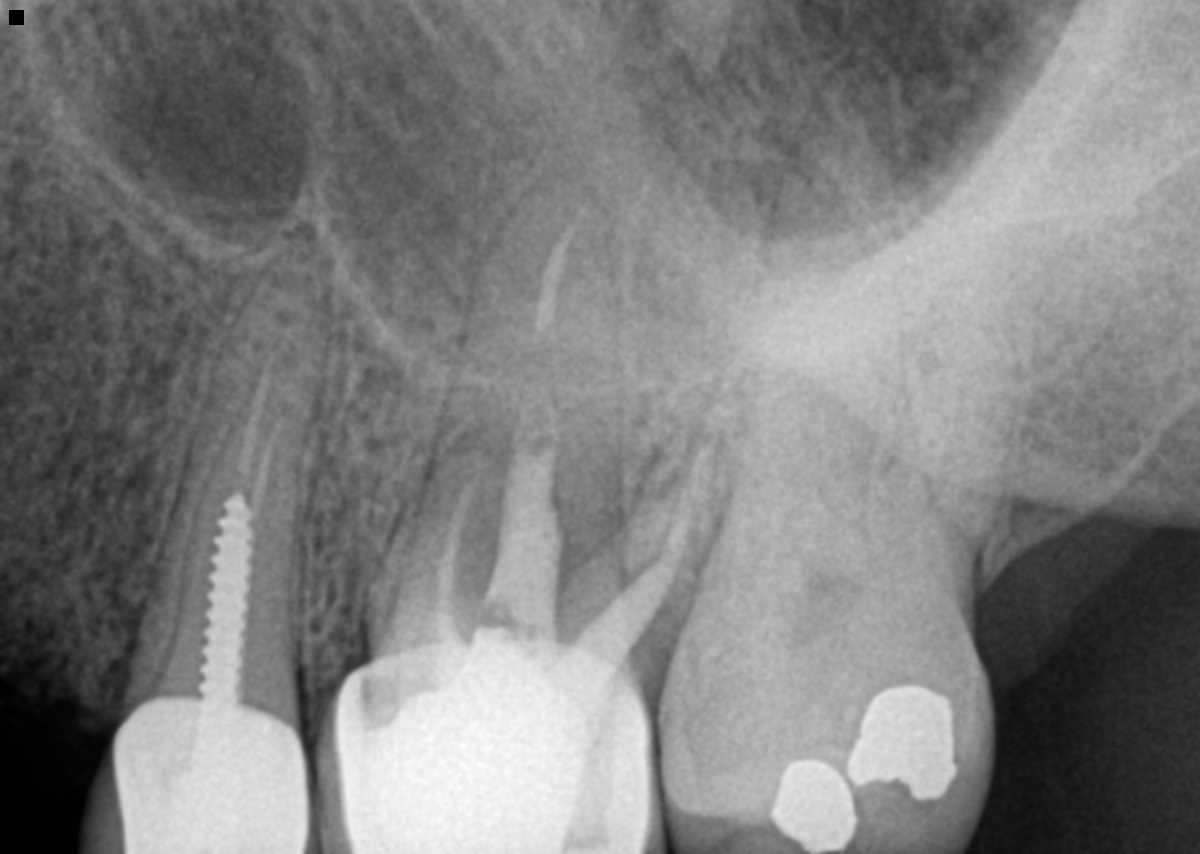Distal Canal: (902, 377, 968, 548)
Distal Root: (544, 404, 743, 688), (858, 279, 1022, 566)
Main Root: (138, 234, 334, 708)
Mesial Root: (709, 286, 849, 593), (364, 438, 509, 669)
Palatal Root: (709, 59, 966, 610), (393, 170, 631, 660)
Root Canal Filling: (580, 476, 695, 657), (483, 438, 565, 634), (438, 464, 483, 658), (535, 197, 591, 343), (236, 355, 275, 481), (249, 417, 288, 522)
